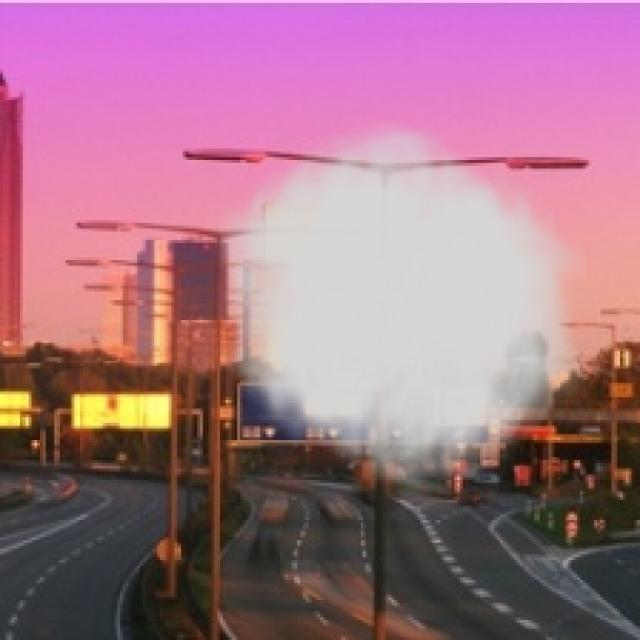smoke: (203, 108, 586, 503)
